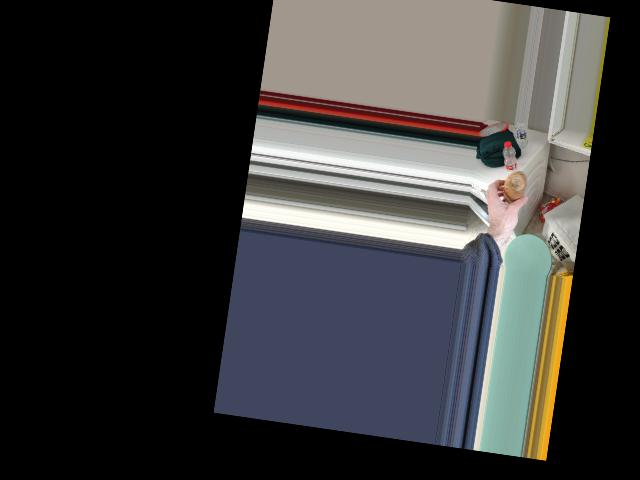sweet_potato: (499, 167, 532, 208)
